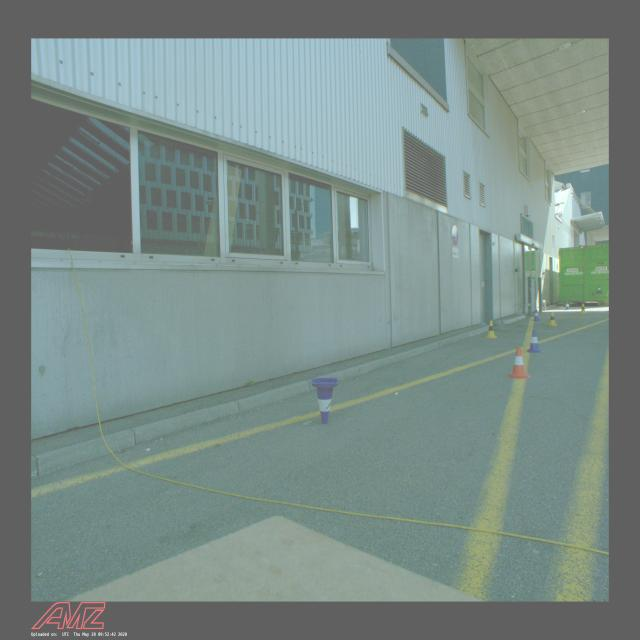blue_cone: (311, 377, 339, 424), (526, 330, 542, 353), (533, 309, 540, 321), (564, 302, 570, 310)
orange_cone: (507, 346, 531, 378)
yellow_cone: (486, 321, 496, 338), (549, 312, 557, 326), (580, 304, 586, 314)
